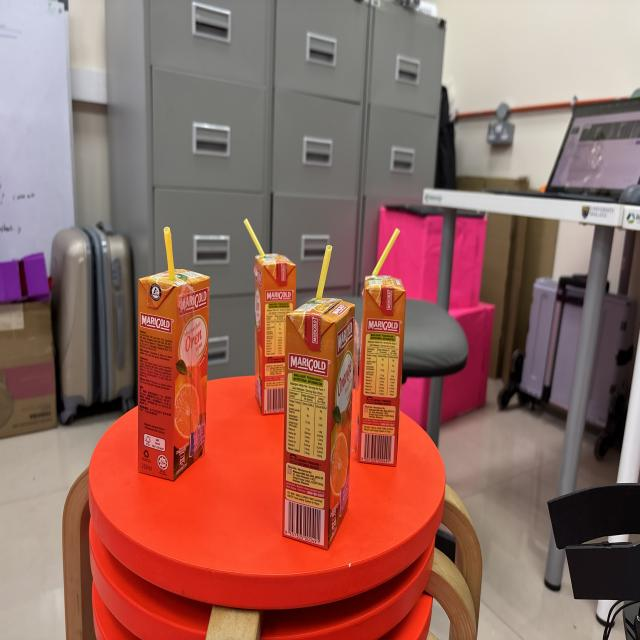drink_carton: (274, 236, 362, 557), (131, 215, 214, 492), (357, 217, 413, 479), (240, 208, 302, 424)
